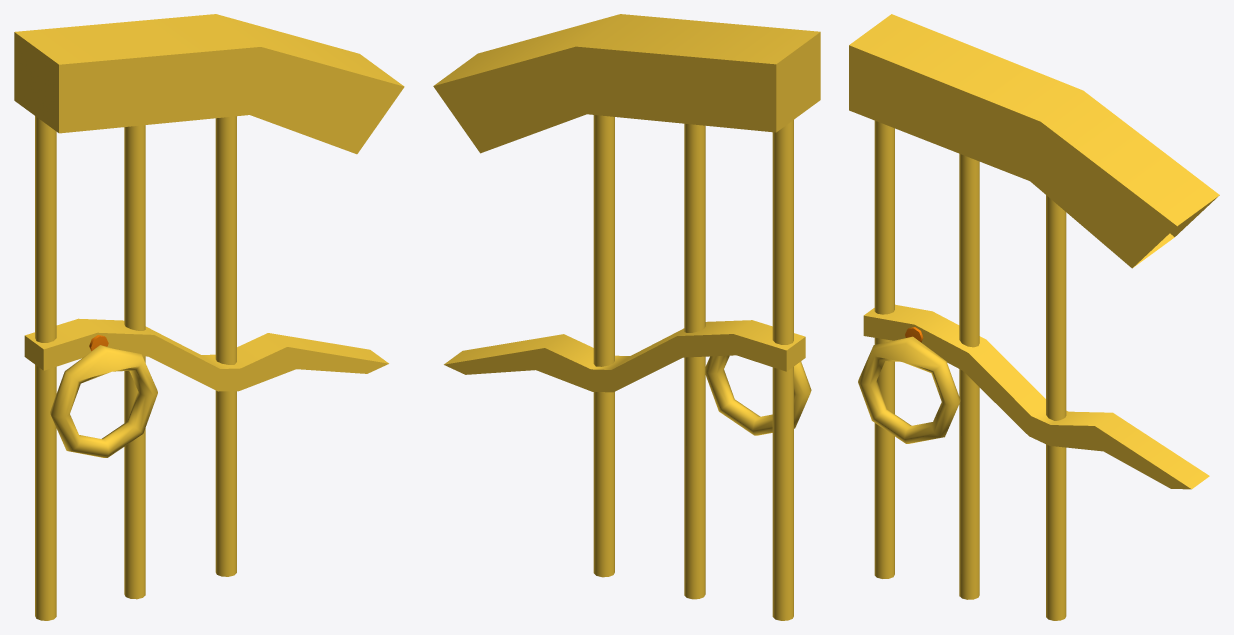
The model's file is Isl_10_Gate_Door_1.fbx.
3 views of the same model, side by side, from view 1: azimuth 30°, elevation 25°; view 2: azimuth 150°, elevation 25°; view 3: azimuth 330°, elevation 25° (orthographic). The views are drawn at different scales.
Parts seen in each view (by area): view 1: Isl_10_Gate_Door_1; view 2: Isl_10_Gate_Door_1; view 3: Isl_10_Gate_Door_1.
Boxes of the visible parts, x1,y1,x2,y2 form: Isl_10_Gate_Door_1: (14,14,404,620); Isl_10_Gate_Door_1: (433,14,820,620); Isl_10_Gate_Door_1: (849,14,1219,620).
Bounding box in the file's own units: 184 × 41.49 × 292.
Materials: 1 (1 with a texture image).
